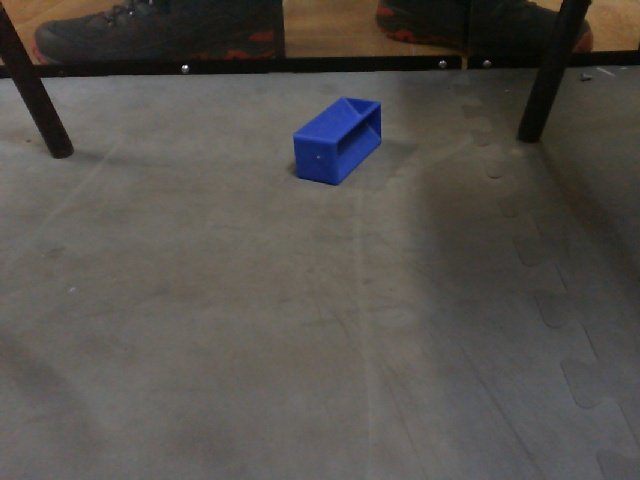BlueSample: (291, 95, 386, 189)
